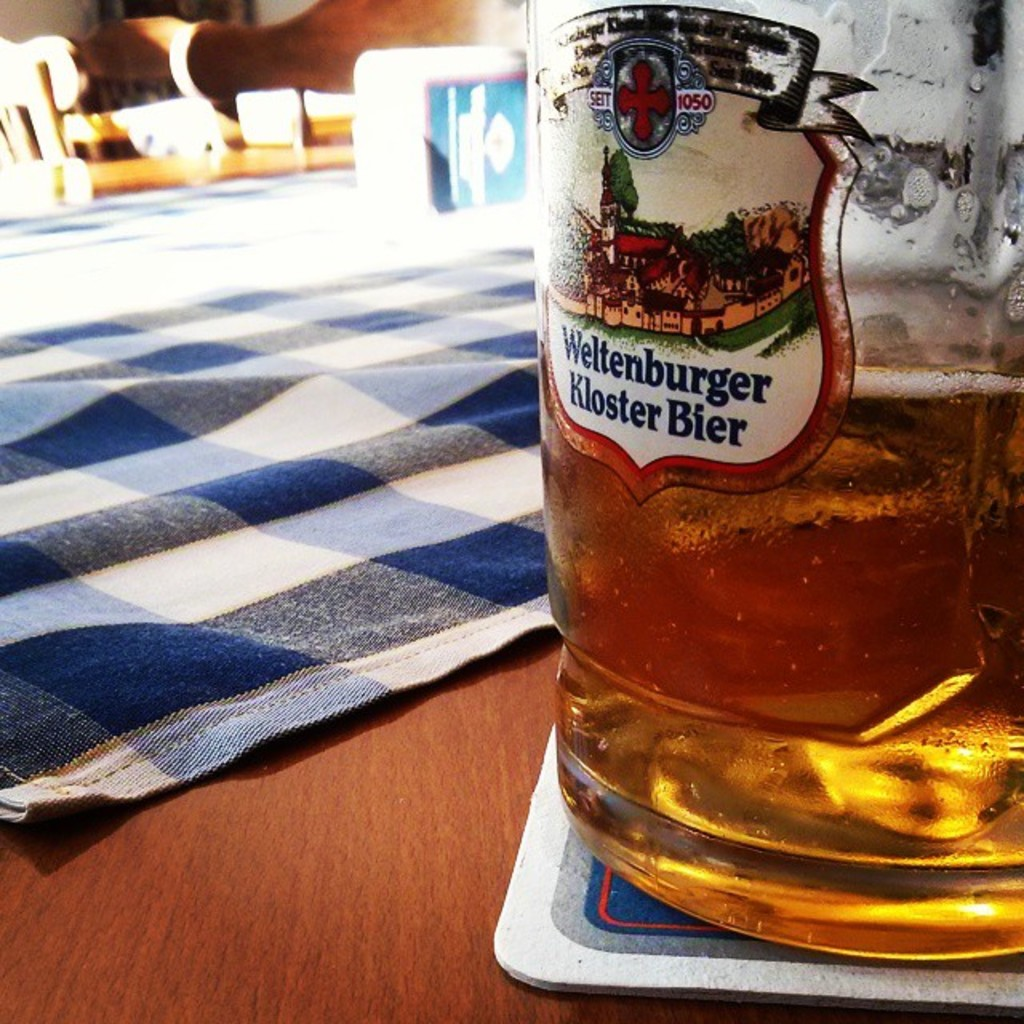Beer: (494, 0, 1022, 969)
